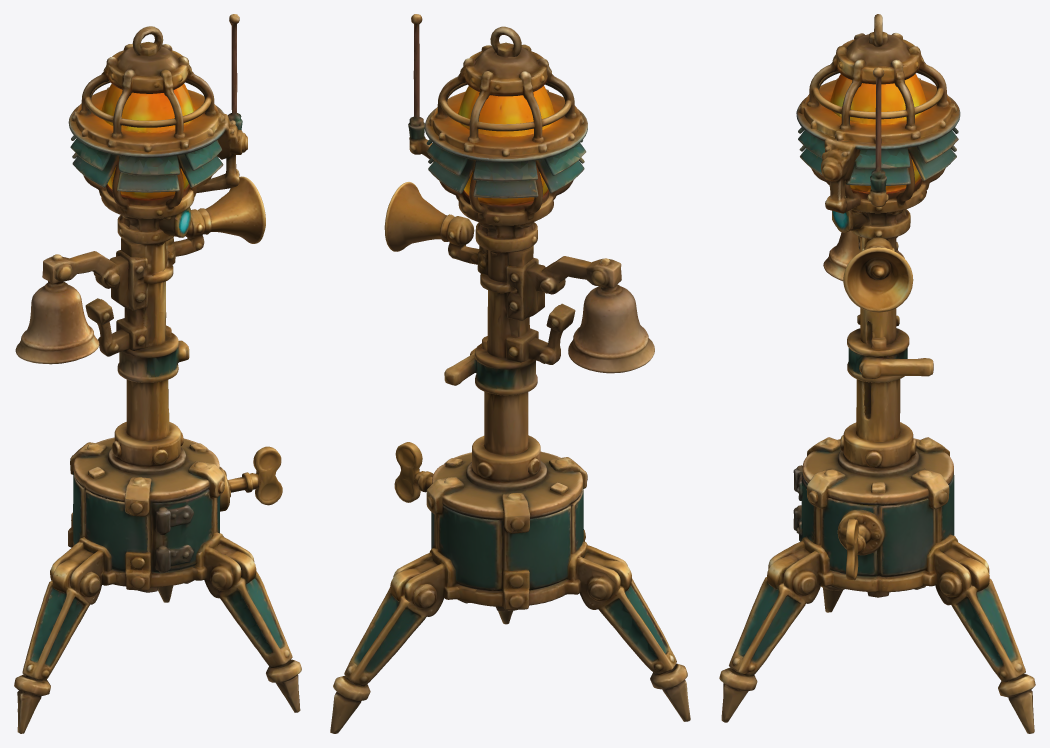
The model's file is beacon_segmented.glb.
3 renders of one model, left to right at view 1: azimuth 30°, elevation 25°; view 2: azimuth 150°, elevation 25°; view 3: azimuth 270°, elevation 25°, orthographic. The views are drawn at different scales.
Parts seen in each view (by area): view 1: tripo_part_0, tripo_part_1, tripo_part_10, tripo_part_5, tripo_part_27, tripo_part_3, tripo_part_6, tripo_part_21, tripo_part_29, tripo_part_12, tripo_part_30, tripo_part_17 (+28 smaller); view 2: tripo_part_0, tripo_part_1, tripo_part_10, tripo_part_27, tripo_part_5, tripo_part_6, tripo_part_2, tripo_part_12, tripo_part_21, tripo_part_30, tripo_part_29, tripo_part_17 (+22 smaller); view 3: tripo_part_0, tripo_part_1, tripo_part_10, tripo_part_6, tripo_part_2, tripo_part_11, tripo_part_3, tripo_part_12, tripo_part_21, tripo_part_29, tripo_part_28, tripo_part_14 (+17 smaller).
Part boxes in pixels (x1,y1,x2,y2): tripo_part_0: (68, 44, 225, 218); tripo_part_1: (73, 471, 219, 573); tripo_part_10: (73, 422, 219, 505); tripo_part_5: (22, 537, 112, 680); tripo_part_27: (15, 281, 99, 364); tripo_part_3: (193, 532, 289, 667); tripo_part_6: (185, 176, 265, 243); tripo_part_21: (126, 379, 169, 440); tripo_part_29: (101, 84, 194, 133); tripo_part_12: (117, 325, 189, 382); tripo_part_30: (42, 251, 128, 307); tripo_part_17: (85, 298, 148, 356); tripo_part_0: (424, 44, 587, 225); tripo_part_1: (390, 487, 583, 617); tripo_part_10: (432, 435, 582, 520); tripo_part_27: (568, 284, 654, 373); tripo_part_5: (568, 541, 676, 674); tripo_part_6: (384, 182, 474, 251); tripo_part_2: (344, 588, 425, 686); tripo_part_12: (444, 336, 537, 395); tripo_part_21: (483, 391, 528, 456); tripo_part_30: (527, 256, 621, 317); tripo_part_29: (458, 86, 554, 136); tripo_part_17: (506, 303, 575, 364); tripo_part_0: (796, 33, 960, 213); tripo_part_1: (800, 474, 989, 606); tripo_part_10: (802, 422, 953, 505); tripo_part_6: (843, 237, 913, 312); tripo_part_2: (952, 578, 1025, 681); tripo_part_11: (732, 551, 833, 673); tripo_part_3: (729, 536, 824, 676); tripo_part_12: (847, 328, 933, 382); tripo_part_21: (856, 379, 900, 441); tripo_part_29: (830, 74, 926, 124); tripo_part_28: (821, 138, 860, 213); tripo_part_14: (831, 571, 924, 592).
Size of the model in its own units: 0.4398 by 1 by 0.4269.
Materials: 1 (1 with a texture image).
